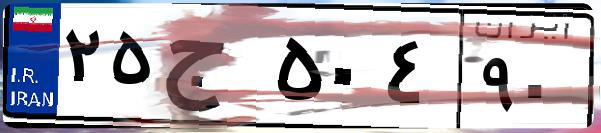0: (330, 28, 385, 110), (525, 38, 570, 115)
2: (57, 26, 110, 100)
4: (385, 28, 445, 110)
5: (270, 28, 330, 110), (110, 28, 158, 98)
9: (475, 38, 525, 113)
ج: (158, 20, 270, 120)
